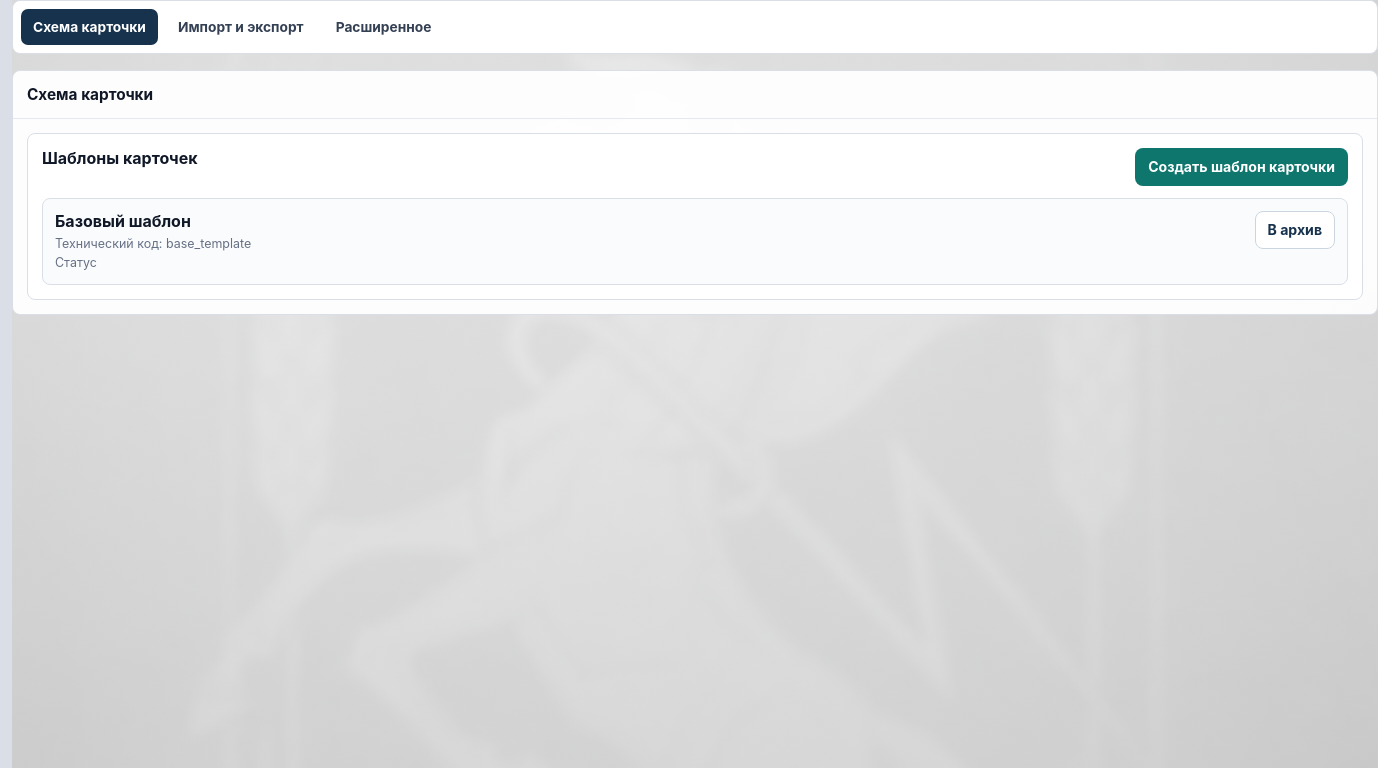
Test: shows reference filling links only in Advanced reference lists
The width and height of the screenshot is (1378, 768).
Expected: the element "Ссылки на заполнение справочников" is not shown
Click the tab "Расширенное": (384, 27) [325, 10, 442, 44]
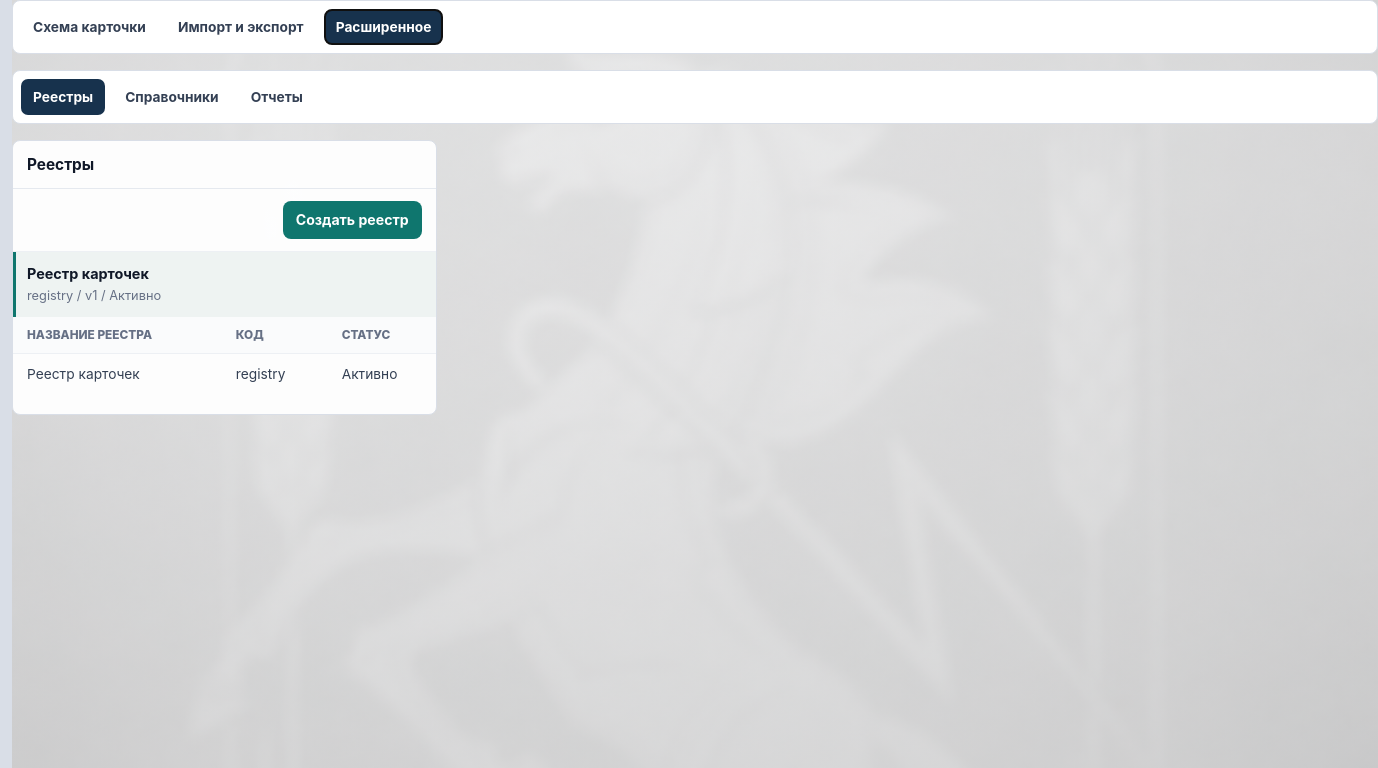
Click the tab "Справочники": (172, 97) [114, 80, 230, 114]
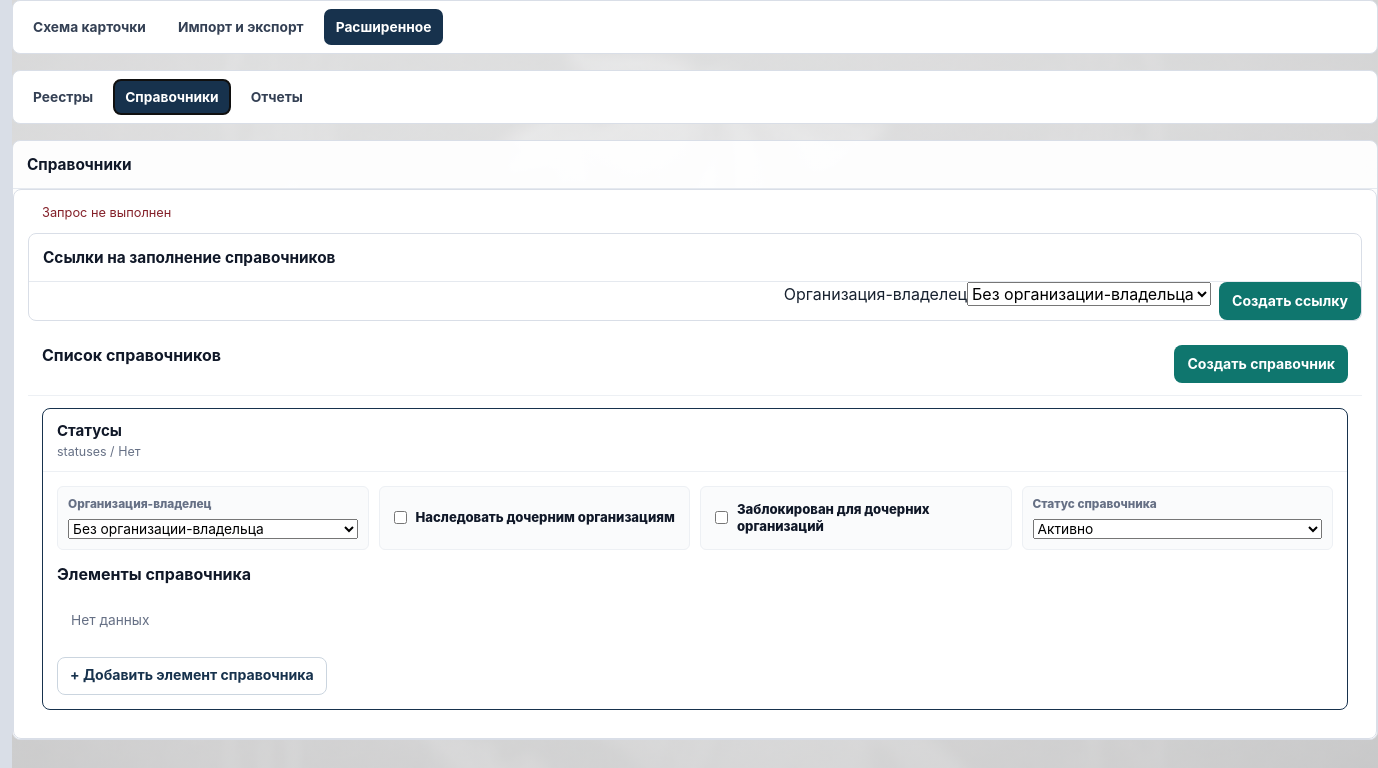
Result: the element "Ссылки на заполнение справочников" is shown at [28, 233, 1362, 321]
